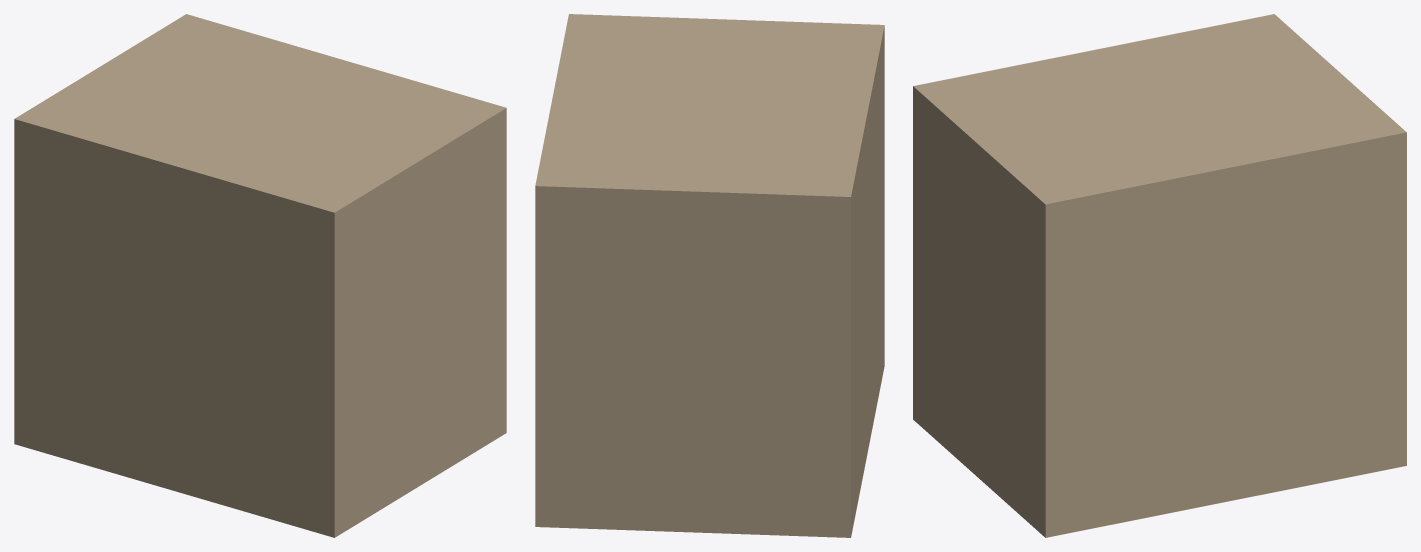
Rendered from bld_106306753.dae.
3 renders of one model, left to right at view 1: azimuth 30°, elevation 25°; view 2: azimuth 150°, elevation 25°; view 3: azimuth 270°, elevation 25°, orthographic. The views are drawn at different scales.
Visible parts, largest first — view 1: bld_106306753; view 2: bld_106306753; view 3: bld_106306753.
Boxes of the visible parts, box(x1,y1,x2,y2) form: bld_106306753: box(14, 14, 506, 537); bld_106306753: box(535, 14, 884, 537); bld_106306753: box(913, 14, 1406, 537).
Bounding box in the file's own units: 9.8 × 10.74 × 8.
